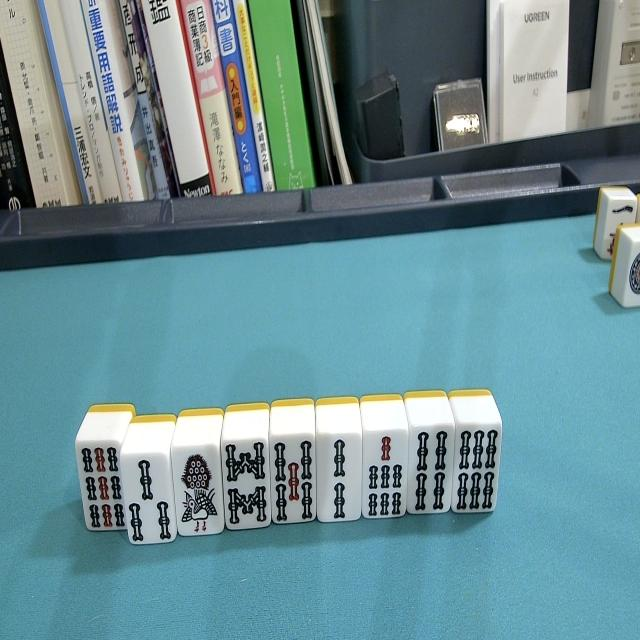1_sou: (121, 404, 178, 554), (75, 400, 131, 541), (172, 409, 226, 539), (450, 388, 504, 518), (312, 392, 362, 528), (404, 388, 454, 524), (222, 398, 272, 532), (268, 398, 320, 524), (359, 393, 409, 521)
